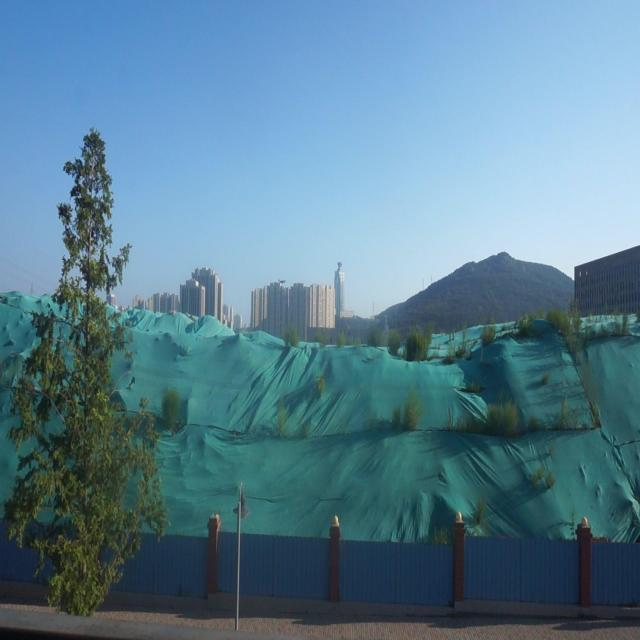UAV: (278, 280, 286, 284)
